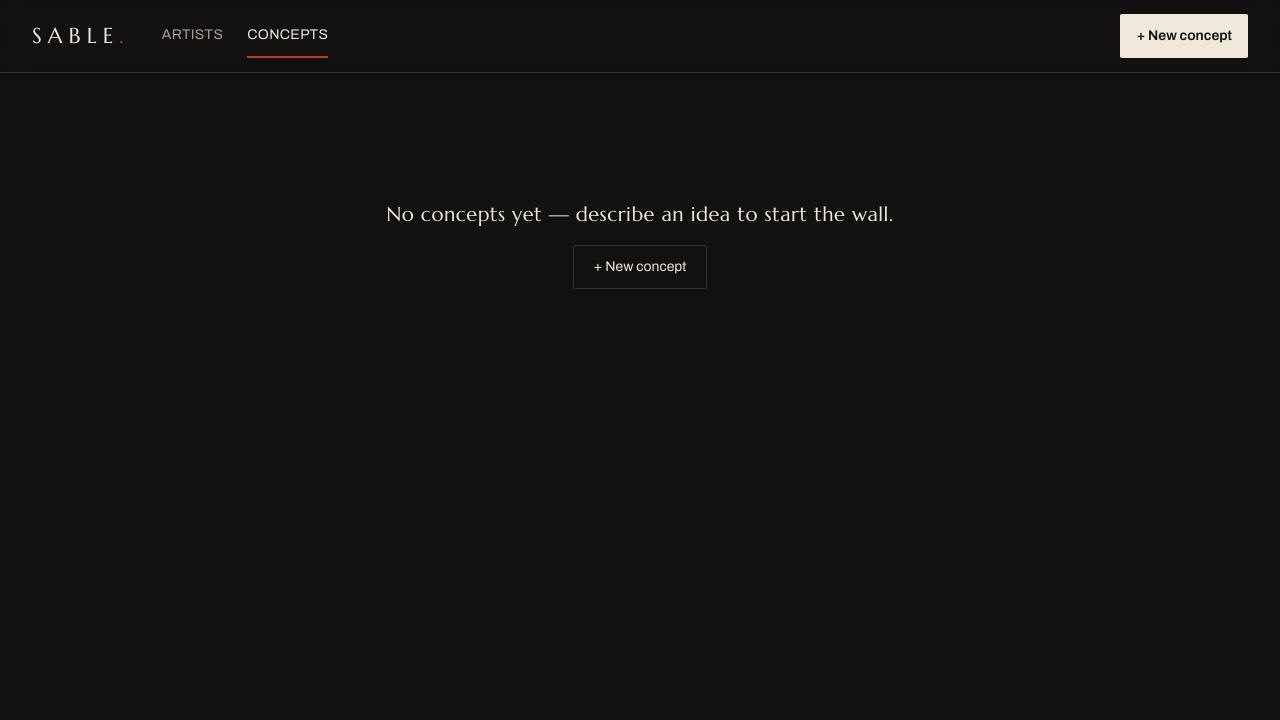
Test: Concepts page › restores a saved draft on mount
Click the button "+ New concept" in the row of "Sable" at (1184, 36), box left=1120, top=14, right=1248, bottom=58
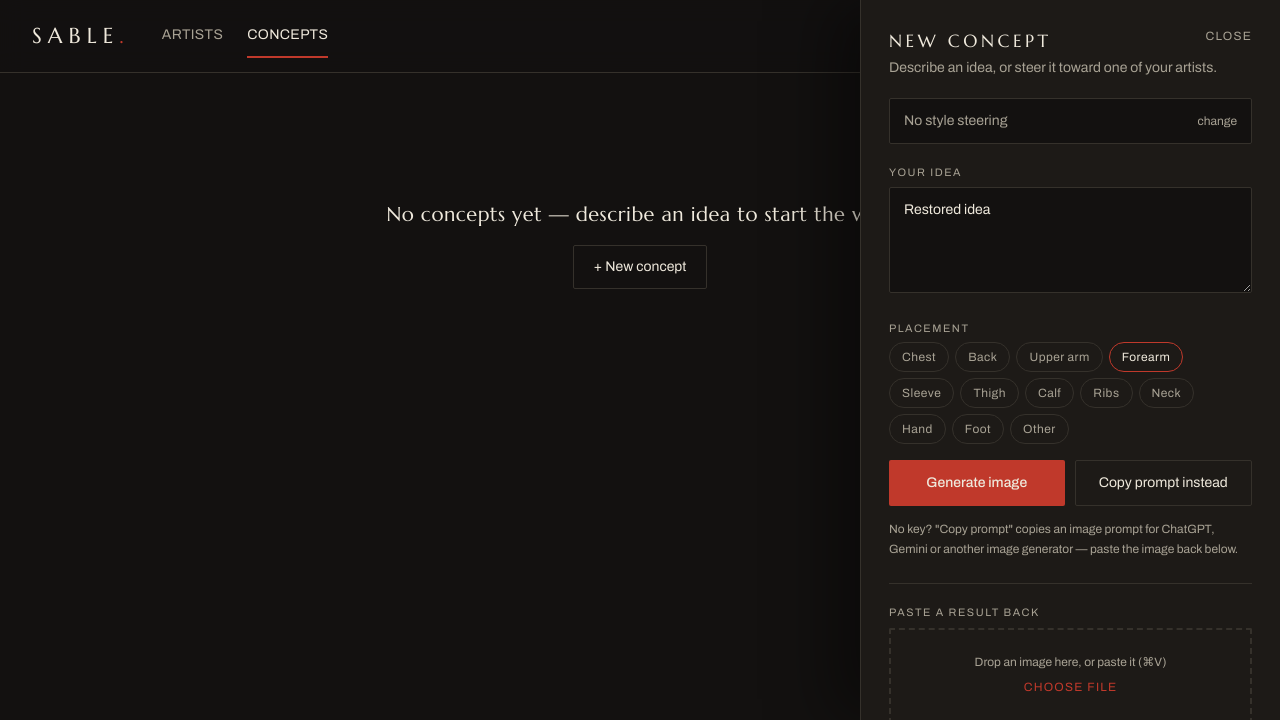
Expected: the text box labelled "Your idea" holds "Restored idea", left=889, top=187, right=1252, bottom=293
